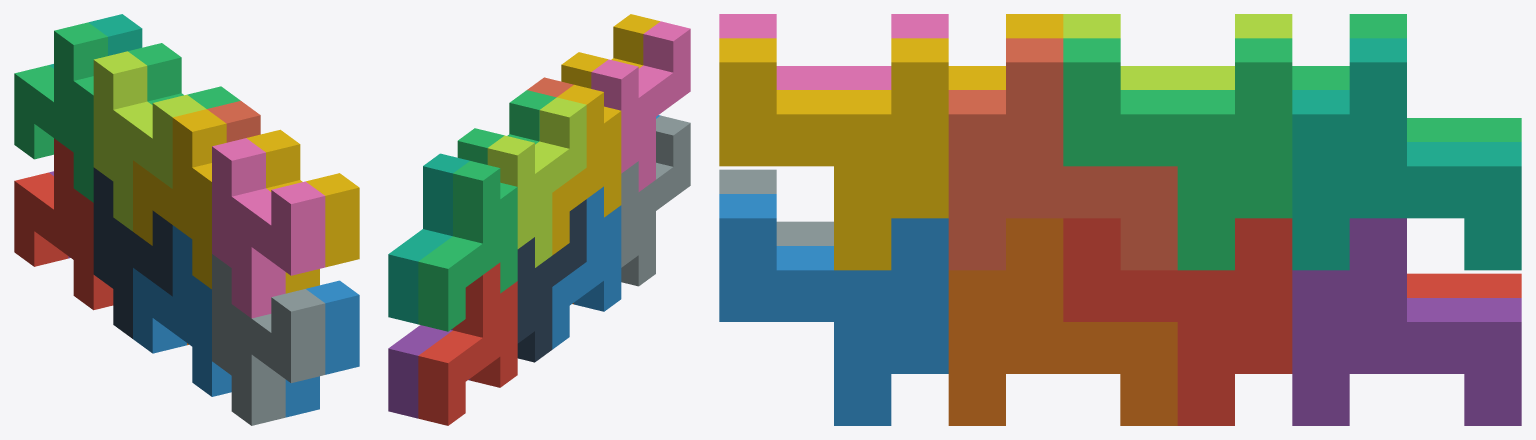
Rendered from tiling.obj.
The picture shows the model from 3 angles, left to right: view 1: azimuth 30°, elevation 25°; view 2: azimuth 150°, elevation 25°; view 3: azimuth 270°, elevation 25°; orthographic projection. The views are drawn at different scales.
Visible parts, largest first — view 1: copy_2_domain_4, copy_2_domain_2, copy_2_domain_3, copy_1_domain_3, copy_1_domain_1, copy_1_domain_4, copy_1_domain_2, copy_2_domain_1, copy_2_domain_8, copy_2_domain_6, copy_2_domain_7, copy_1_domain_7 (+1 smaller); view 2: copy_1_domain_3, copy_1_domain_1, copy_2_domain_3, copy_2_domain_4, copy_2_domain_2, copy_1_domain_4, copy_1_domain_2, copy_2_domain_1, copy_1_domain_7, copy_1_domain_5, copy_2_domain_8, copy_2_domain_7 (+1 smaller); view 3: copy_2_domain_7, copy_1_domain_7, copy_2_domain_8, copy_1_domain_8, copy_1_domain_5, copy_2_domain_6, copy_1_domain_6, copy_2_domain_5, copy_2_domain_4, copy_2_domain_3, copy_1_domain_3, copy_2_domain_2 (+2 smaller).
Boxes of the visible parts, x1=… form: copy_2_domain_4: x1=212, y1=138, x2=325, y2=318; copy_2_domain_2: x1=212, y1=254, x2=325, y2=425; copy_2_domain_3: x1=93, y1=51, x2=206, y2=231; copy_1_domain_3: x1=14, y1=22, x2=107, y2=202; copy_1_domain_1: x1=14, y1=138, x2=113, y2=310; copy_1_domain_4: x1=133, y1=109, x2=226, y2=289; copy_1_domain_2: x1=133, y1=225, x2=231, y2=396; copy_2_domain_1: x1=93, y1=167, x2=172, y2=338; copy_2_domain_8: x1=246, y1=129, x2=359, y2=293; copy_2_domain_6: x1=285, y1=280, x2=359, y2=417; copy_2_domain_7: x1=128, y1=43, x2=240, y2=108; copy_1_domain_7: x1=49, y1=14, x2=142, y2=68; copy_1_domain_3: x1=418, y1=161, x2=517, y2=331; copy_1_domain_1: x1=418, y1=262, x2=517, y2=425; copy_2_domain_3: x1=487, y1=97, x2=586, y2=267; copy_2_domain_4: x1=591, y1=21, x2=690, y2=191; copy_2_domain_2: x1=621, y1=115, x2=690, y2=286; copy_1_domain_4: x1=552, y1=84, x2=621, y2=255; copy_1_domain_2: x1=552, y1=186, x2=621, y2=349; copy_2_domain_1: x1=517, y1=199, x2=586, y2=362; copy_1_domain_7: x1=388, y1=153, x2=469, y2=324; copy_1_domain_5: x1=388, y1=325, x2=470, y2=418; copy_2_domain_8: x1=561, y1=14, x2=660, y2=88; copy_2_domain_7: x1=457, y1=90, x2=556, y2=164; copy_2_domain_7: x1=1063, y1=38, x2=1292, y2=270; copy_1_domain_7: x1=1292, y1=38, x2=1521, y2=270; copy_2_domain_8: x1=719, y1=38, x2=948, y2=270; copy_1_domain_8: x1=948, y1=38, x2=1177, y2=270; copy_1_domain_5: x1=1292, y1=218, x2=1521, y2=425; copy_2_domain_6: x1=719, y1=194, x2=948, y2=425; copy_1_domain_6: x1=948, y1=218, x2=1177, y2=425; copy_2_domain_5: x1=1063, y1=218, x2=1292, y2=425; copy_2_domain_4: x1=719, y1=14, x2=948, y2=89; copy_2_domain_3: x1=1063, y1=14, x2=1292, y2=89; copy_1_domain_3: x1=1292, y1=14, x2=1521, y2=141; copy_2_domain_2: x1=719, y1=169, x2=833, y2=245.
Size of the model in its own units: 2 by 7 by 14.
